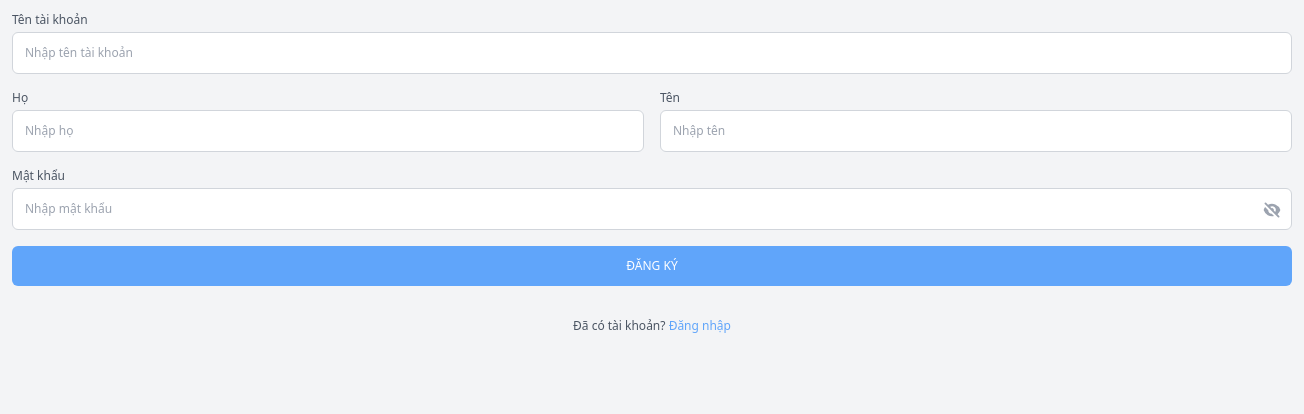
Test Component <FormSignUp /> › Render Component <FormSignUp /> with sign up fail
Type "emilys" into the field with test id "form-signup-username" at (652, 53), box [12, 32, 1292, 74]
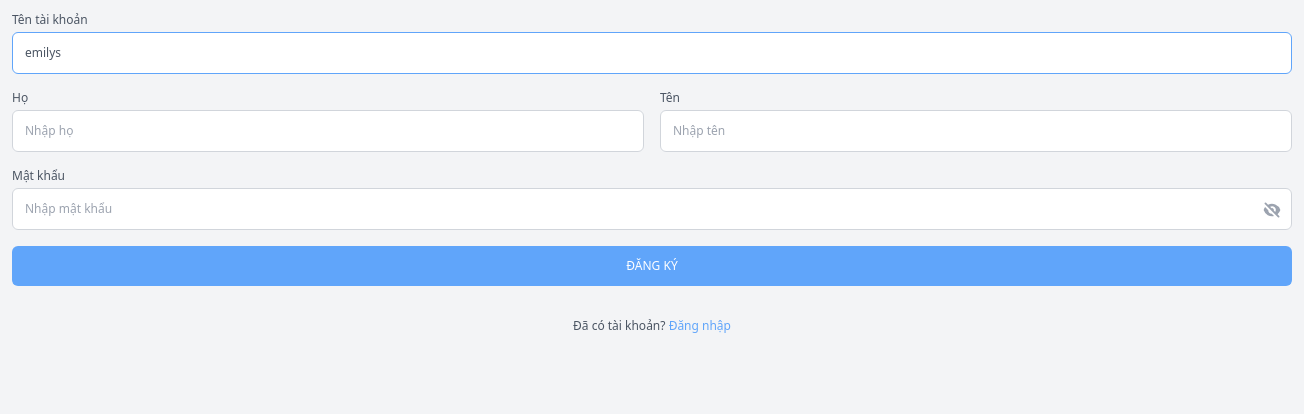
Type "emilyspass" into the password field with test id "form-signup-password" at (652, 209), box [12, 188, 1292, 230]
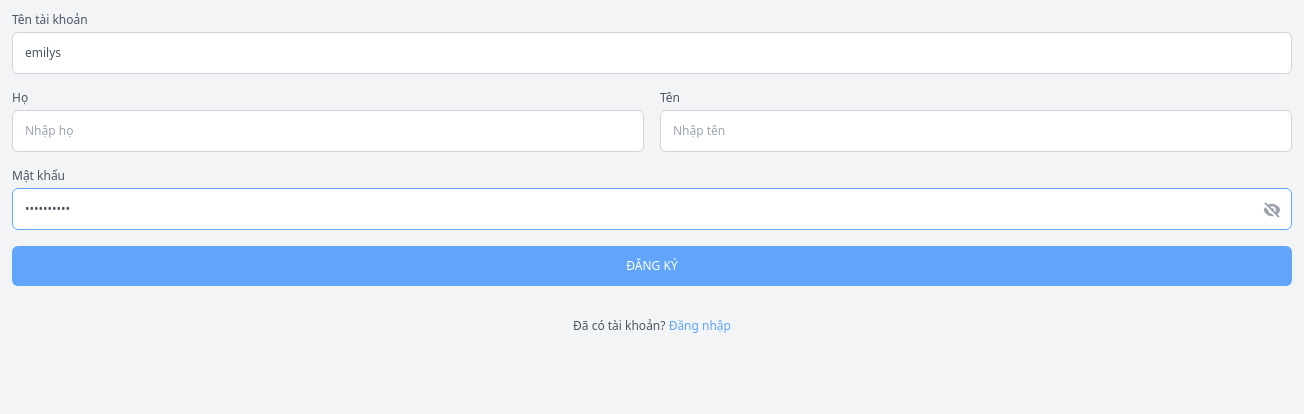
Type "Deep" into the field with test id "form-signup-last-name" at (328, 131), box [12, 110, 644, 152]
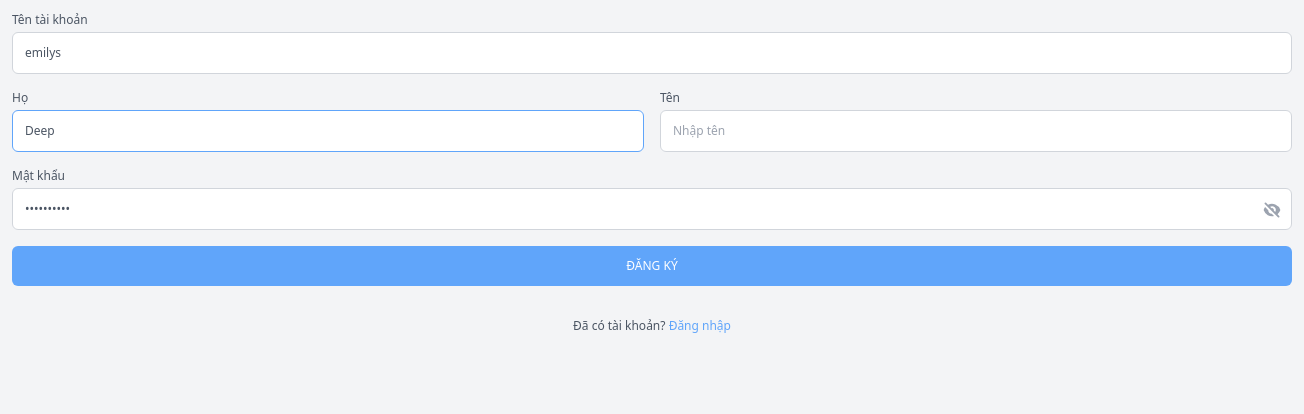
Type "Johnny" into the field with test id "form-signup-first-name" at (976, 131), box [660, 110, 1292, 152]
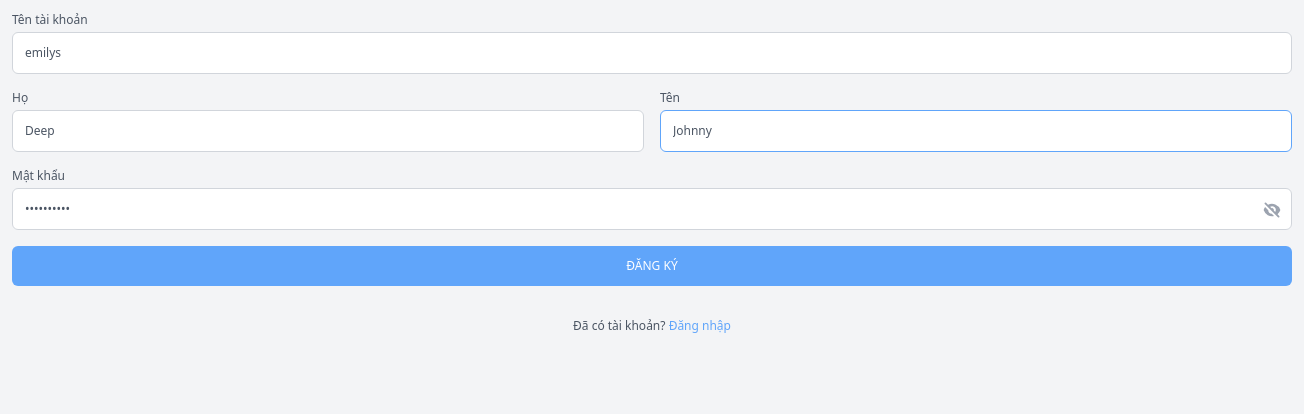
Click the button with test id "form-signup-button" at (652, 266), box [12, 246, 1292, 286]
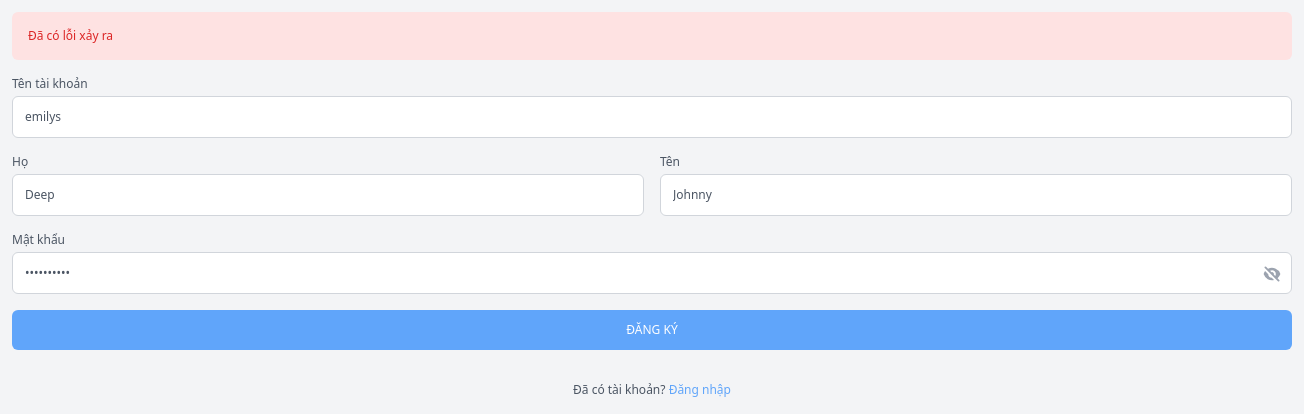
Expected: the text "Đã có lỗi xảy ra" is shown, [12, 12, 1292, 60]
Expected: the text with test id "form-signup-error" reads "Đã có lỗi xảy ra", [28, 27, 113, 44]
